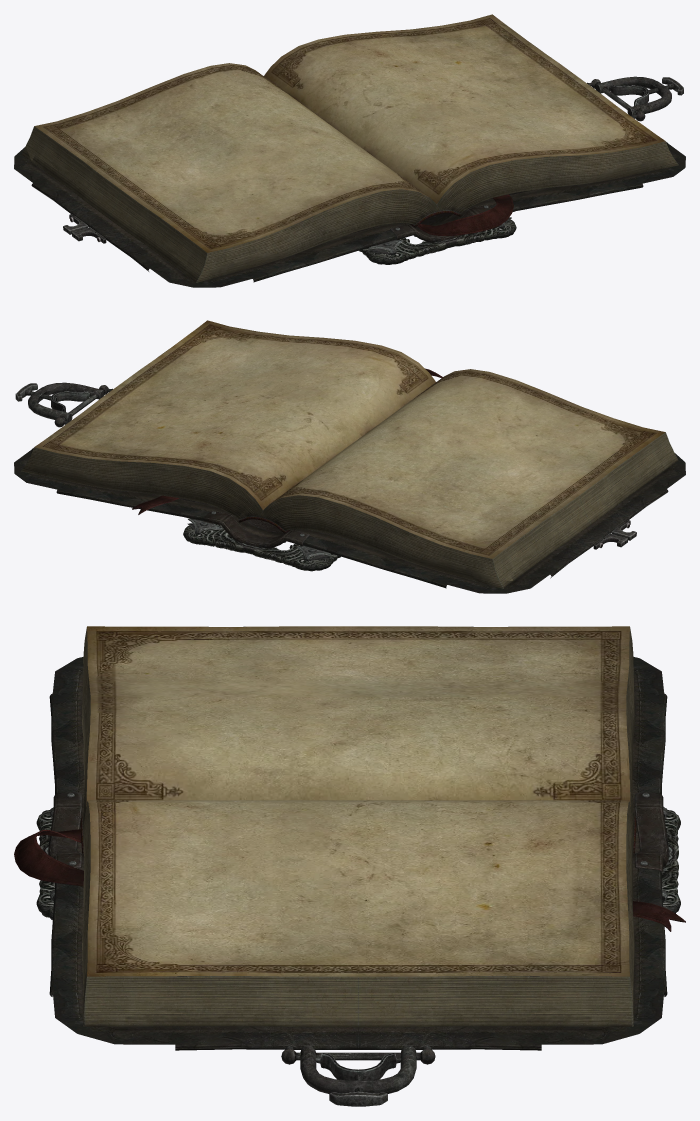
File: victor-book.glb
3 renders of one model, top to bottom at view 1: azimuth 30°, elevation 25°; view 2: azimuth 150°, elevation 25°; view 3: azimuth 270°, elevation 25°, orthographic. The views are drawn at different scales.
Visible parts, largest first — view 1: Mesh_0001_Tex_0001_0.dds_0, Mesh_0002_Tex_0001_0.dds_0, Mesh_0003_Tex_0000_0.dds_0, Mesh_0000_Tex_0000_0.dds_0, Mesh_0004_Tex_0000_0.dds_0, Mesh_0005_Tex_0000_0.dds_0, Mesh_0006_Tex_0000_0.dds_0; view 2: Mesh_0001_Tex_0001_0.dds_0, Mesh_0002_Tex_0001_0.dds_0, Mesh_0003_Tex_0000_0.dds_0, Mesh_0000_Tex_0000_0.dds_0, Mesh_0004_Tex_0000_0.dds_0, Mesh_0005_Tex_0000_0.dds_0, Mesh_0006_Tex_0000_0.dds_0; view 3: Mesh_0001_Tex_0001_0.dds_0, Mesh_0002_Tex_0001_0.dds_0, Mesh_0000_Tex_0000_0.dds_0, Mesh_0003_Tex_0000_0.dds_0, Mesh_0004_Tex_0000_0.dds_0, Mesh_0006_Tex_0000_0.dds_0, Mesh_0005_Tex_0000_0.dds_0.
Boxes of the visible parts, x1,y1,x2,y2 form: Mesh_0001_Tex_0001_0.dds_0: (264,14,665,203); Mesh_0002_Tex_0001_0.dds_0: (34,63,428,252); Mesh_0003_Tex_0000_0.dds_0: (21,126,678,282); Mesh_0000_Tex_0000_0.dds_0: (14,46,685,287); Mesh_0004_Tex_0000_0.dds_0: (63,76,683,243); Mesh_0005_Tex_0000_0.dds_0: (358,217,511,264); Mesh_0006_Tex_0000_0.dds_0: (368,219,516,254); Mesh_0001_Tex_0001_0.dds_0: (34,320,435,509); Mesh_0002_Tex_0001_0.dds_0: (271,369,665,558); Mesh_0003_Tex_0000_0.dds_0: (21,432,678,588); Mesh_0000_Tex_0000_0.dds_0: (14,352,685,593); Mesh_0004_Tex_0000_0.dds_0: (15,382,636,549); Mesh_0005_Tex_0000_0.dds_0: (187,518,340,571); Mesh_0006_Tex_0000_0.dds_0: (183,524,331,560); Mesh_0001_Tex_0001_0.dds_0: (87,800,629,976); Mesh_0002_Tex_0001_0.dds_0: (86,626,630,806); Mesh_0000_Tex_0000_0.dds_0: (14,657,685,1050); Mesh_0003_Tex_0000_0.dds_0: (82,626,634,1027); Mesh_0004_Tex_0000_0.dds_0: (67,793,649,1106); Mesh_0006_Tex_0000_0.dds_0: (36,806,680,919); Mesh_0005_Tex_0000_0.dds_0: (36,808,680,900).
Bounding box in the file's own units: 4.22 × 0.5679 × 2.58.
11 materials, 11 textured.
